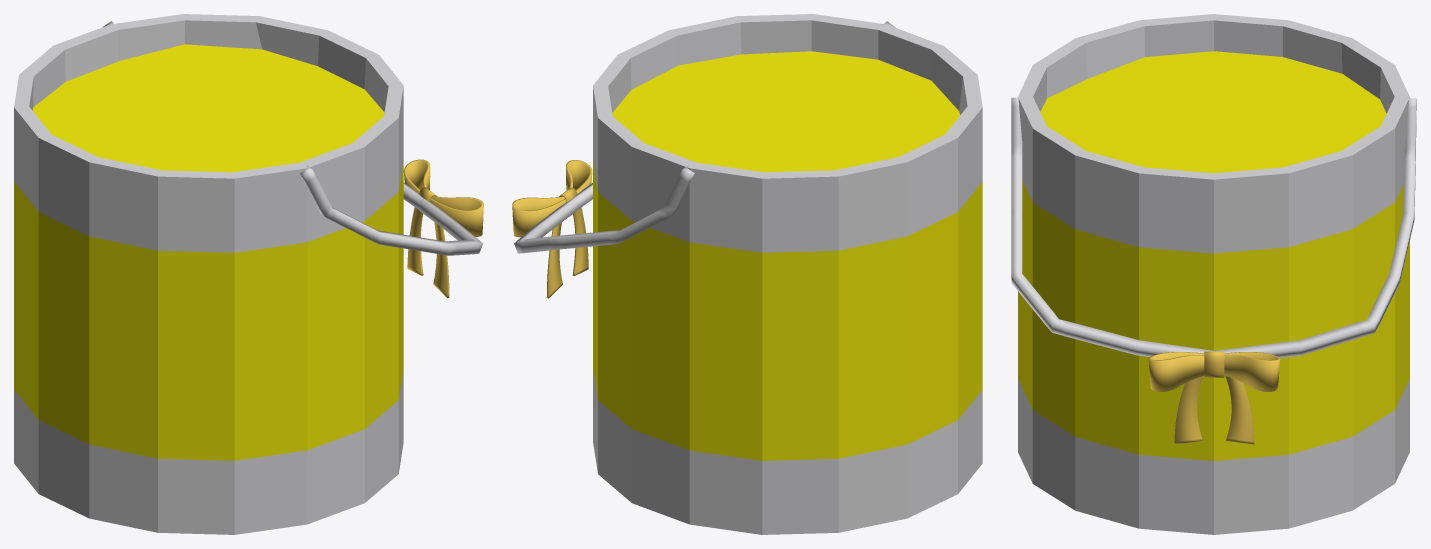
Rendered from PaintbucketYellow.fbx.
The picture shows the model from 3 angles, left to right: view 1: azimuth 30°, elevation 25°; view 2: azimuth 150°, elevation 25°; view 3: azimuth 270°, elevation 25°; orthographic projection.
Parts seen in each view (by area): view 1: PaintBucket.002; view 2: PaintBucket.002; view 3: PaintBucket.002.
Boxes of the visible parts, x1=… form: PaintBucket.002: x1=14, y1=14, x2=483, y2=534; PaintBucket.002: x1=512, y1=14, x2=982, y2=534; PaintBucket.002: x1=1011, y1=14, x2=1416, y2=534.
Size of the model in its own units: 245 by 200 by 207.
